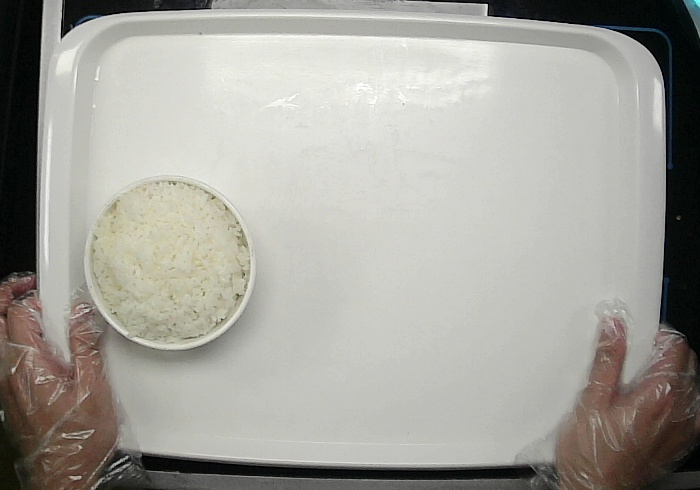HZYJPL-Fan_Wan: (84, 174, 256, 351)
